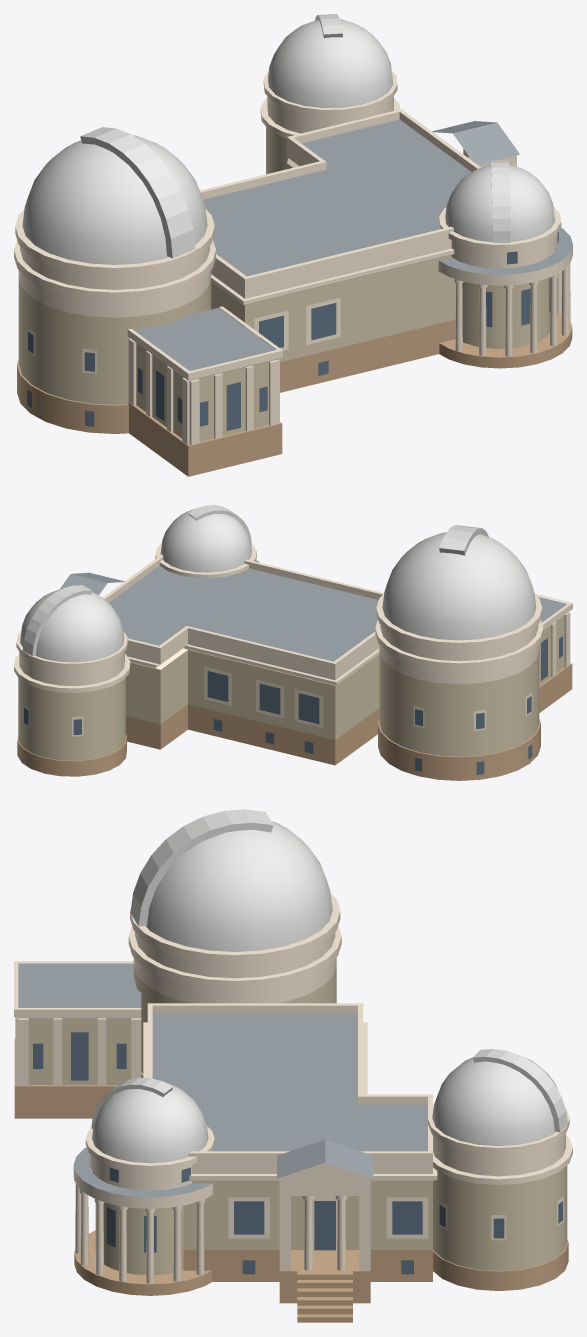
The model's file is pit-allegheny-observatory.glb.
The picture shows the model from 3 angles, top to bottom: view 1: azimuth 30°, elevation 25°; view 2: azimuth 150°, elevation 25°; view 3: azimuth 270°, elevation 25°; orthographic projection. The views are drawn at different scales.
Parts seen in each view (by area): view 1: Allegheny Observatory; view 2: Allegheny Observatory; view 3: Allegheny Observatory.
Boxes of the visible parts, <box> form: Allegheny Observatory: <box>14,14,572,476</box>; Allegheny Observatory: <box>14,505,572,780</box>; Allegheny Observatory: <box>14,809,572,1322</box>.
Size of the model in its own units: 52.5 by 23.48 by 44.1.
